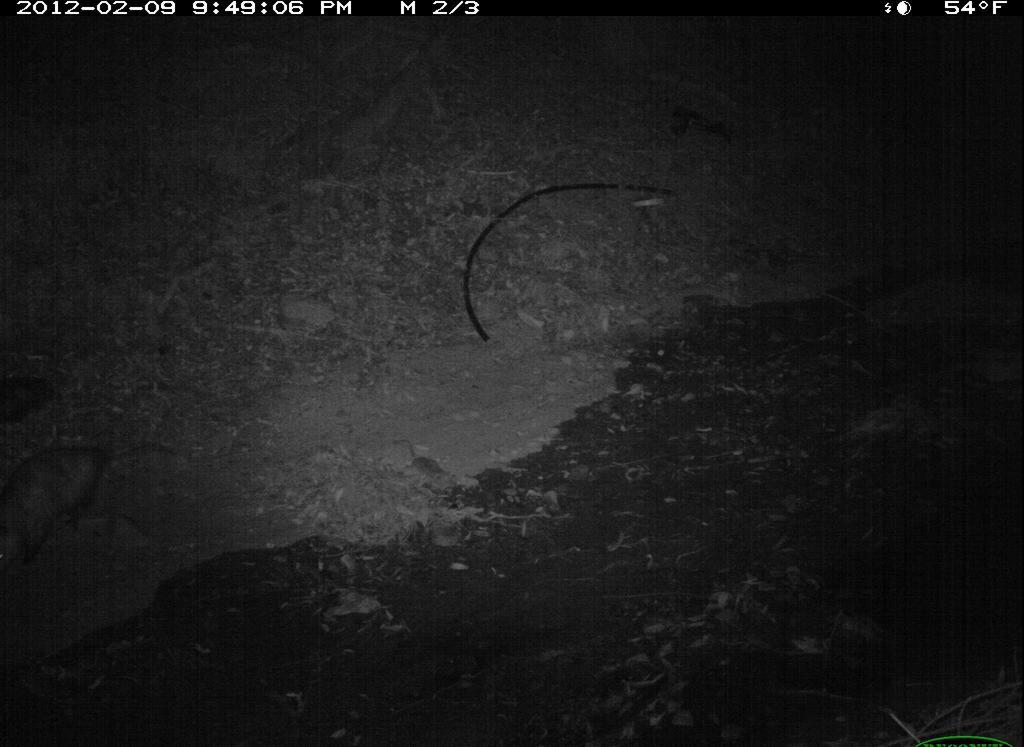opossum: (1, 436, 185, 568)
